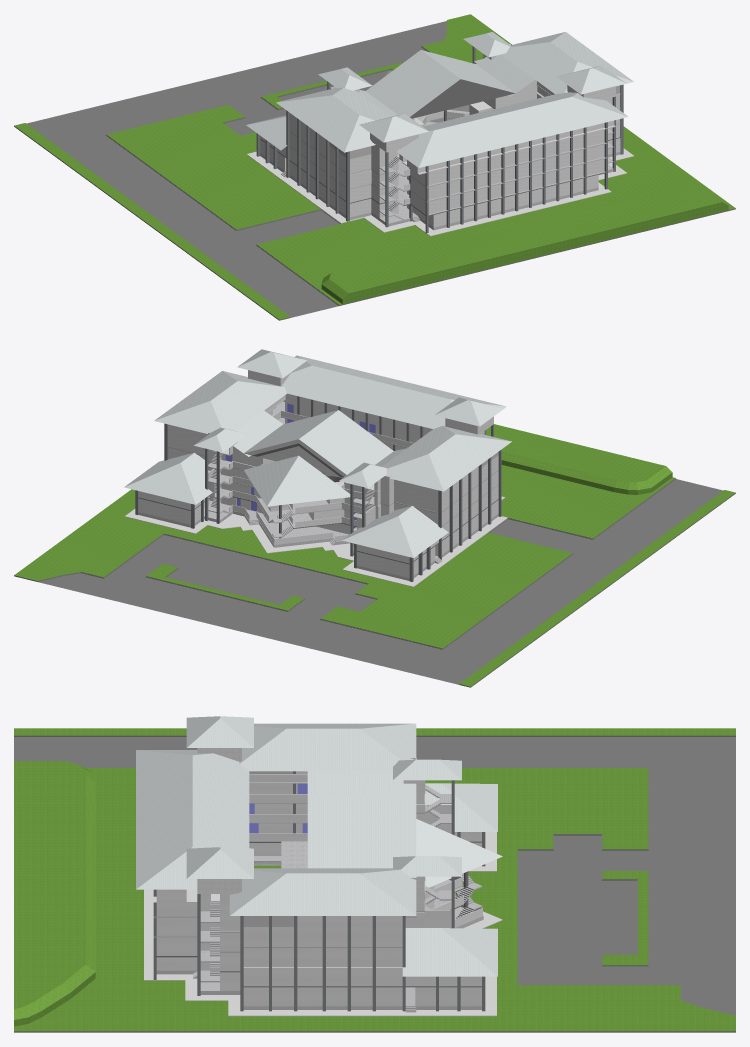
The model's file is Annex1.glb.
3 renders of one model, top to bottom at view 1: azimuth 30°, elevation 25°; view 2: azimuth 150°, elevation 25°; view 3: azimuth 270°, elevation 25°, orthographic. The views are drawn at different scales.
Visible parts, largest first — view 1: object 194, object 195, Roof wing#1, Roof wing (×2), object 154, Roof tanki air (×2), object 3, Roof tanki air#1, object 11, object 64, object 190, object 106 (+17 smaller); view 2: object 194, Roof wing (×2), object 154, Roof wing#1, object 195, object 3, object 70, Roof tanki air (×2), object 69, object 11, Roof tanki air#1, object 49 (+13 smaller); view 3: object 194, object 195, Roof wing (×2), Roof wing#1, object 154, Roof tanki air (×2), object 3, object 69, Roof tanki air#1, object 191, object 70, object 4 (+26 smaller).
Part boxes in pixels (left/top/right/bottom): object 194: left=14, top=14, right=735, bottom=320; object 195: left=321, top=198, right=728, bottom=304; Roof wing#1: left=396, top=92, right=628, bottom=167; Roof wing (×2): left=276, top=32, right=633, bottom=152; object 154: left=366, top=50, right=515, bottom=118; Roof tanki air (×2): left=359, top=65, right=626, bottom=152; object 3: left=246, top=148, right=633, bottom=236; Roof tanki air#1: left=318, top=32, right=511, bottom=90; object 11: left=260, top=151, right=620, bottom=230; object 64: left=407, top=181, right=514, bottom=214; object 190: left=476, top=54, right=536, bottom=97; object 106: left=410, top=151, right=514, bottom=185; object 194: left=14, top=465, right=735, bottom=687; Roof wing (×2): left=154, top=371, right=511, bottom=491; object 154: left=244, top=410, right=393, bottom=506; Roof wing#1: left=282, top=355, right=506, bottom=428; object 195: left=486, top=424, right=672, bottom=494; object 3: left=124, top=473, right=507, bottom=586; object 70: left=342, top=506, right=448, bottom=557; Roof tanki air (×2): left=237, top=349, right=504, bottom=434; object 69: left=124, top=452, right=212, bottom=504; object 11: left=138, top=474, right=498, bottom=580; Roof tanki air#1: left=194, top=427, right=386, bottom=487; object 49: left=209, top=483, right=449, bottom=563; object 194: left=14, top=728, right=735, bottom=1032; object 195: left=14, top=761, right=95, bottom=1026; Roof wing (×2): left=229, top=723, right=416, bottom=915; Roof wing#1: left=136, top=750, right=249, bottom=889; object 154: left=307, top=796, right=502, bottom=887; Roof tanki air (×2): left=186, top=716, right=253, bottom=893; object 3: left=144, top=832, right=502, bottom=1016; object 69: left=402, top=928, right=497, bottom=976; Roof tanki air#1: left=393, top=759, right=461, bottom=876; object 191: left=307, top=771, right=416, bottom=796; object 70: left=424, top=783, right=497, bottom=831; object 4: left=243, top=987, right=372, bottom=1006.
Bounding box in the file's own units: 100 × 21.4 × 101.
Materials: 8 (5 with a texture image).
